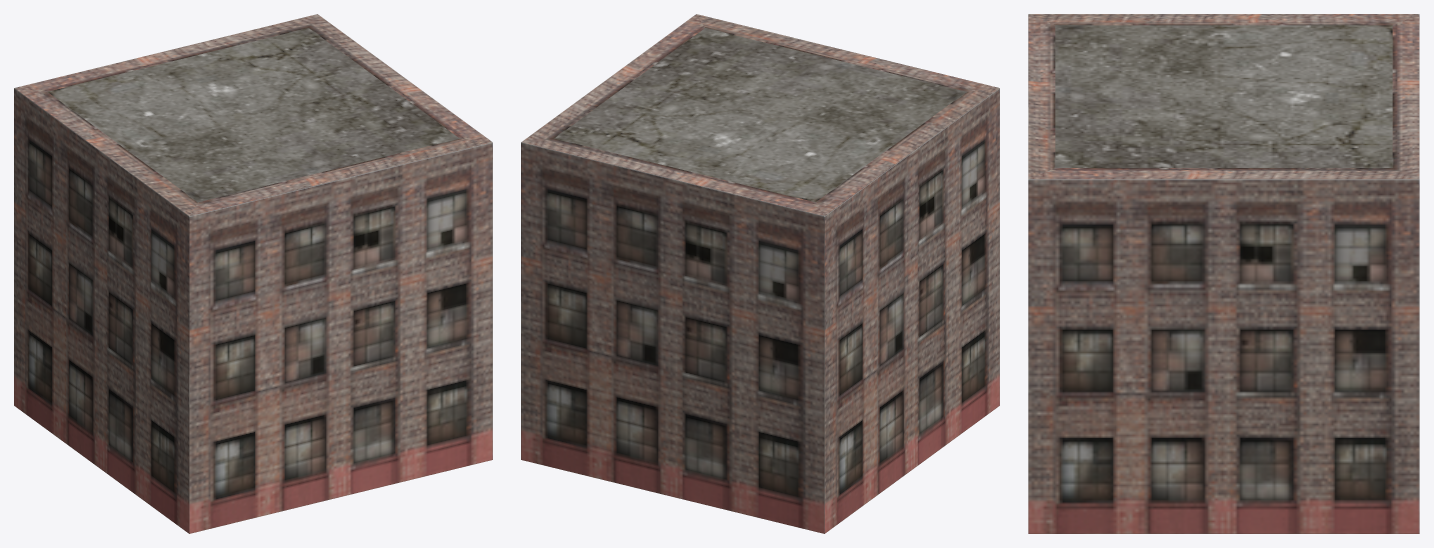
File: BuildingB.fbx
3 views of the same model, side by side, from view 1: azimuth 30°, elevation 25°; view 2: azimuth 150°, elevation 25°; view 3: azimuth 270°, elevation 25° (orthographic). The views are drawn at different scales.
Visible parts, largest first — view 1: Building_B.001; view 2: Building_B.001; view 3: Building_B.001.
Boxes of the visible parts, x1,y1,x2,y2 form: Building_B.001: [14, 14, 492, 533]; Building_B.001: [521, 14, 999, 533]; Building_B.001: [1028, 14, 1419, 533].
Size of the model in its own units: 1500 by 1500 by 1500.
Materials: 1 (1 with a texture image).
